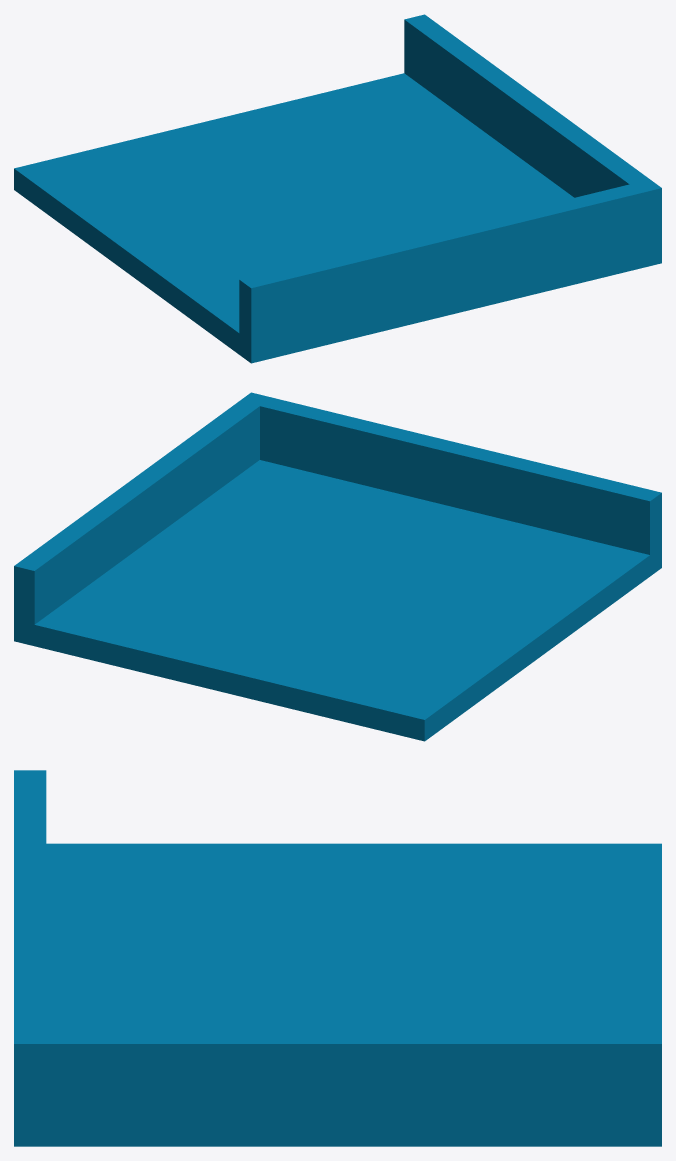
File: BlueRoof_Corner.glb
The picture shows the model from 3 angles, top to bottom: view 1: azimuth 30°, elevation 25°; view 2: azimuth 150°, elevation 25°; view 3: azimuth 270°, elevation 25°; orthographic projection. The views are drawn at different scales.
Visible parts, largest first — view 1: roof_flat_corner_blue; view 2: roof_flat_corner_blue; view 3: roof_flat_corner_blue.
Part boxes in pixels (x1,y1,x2,y2): roof_flat_corner_blue: [14, 14, 661, 363]; roof_flat_corner_blue: [14, 392, 661, 741]; roof_flat_corner_blue: [14, 770, 661, 1146].
Size of what is drawn, in the model's own units: 4 by 0.7 by 4.
1 material, 1 textured.
